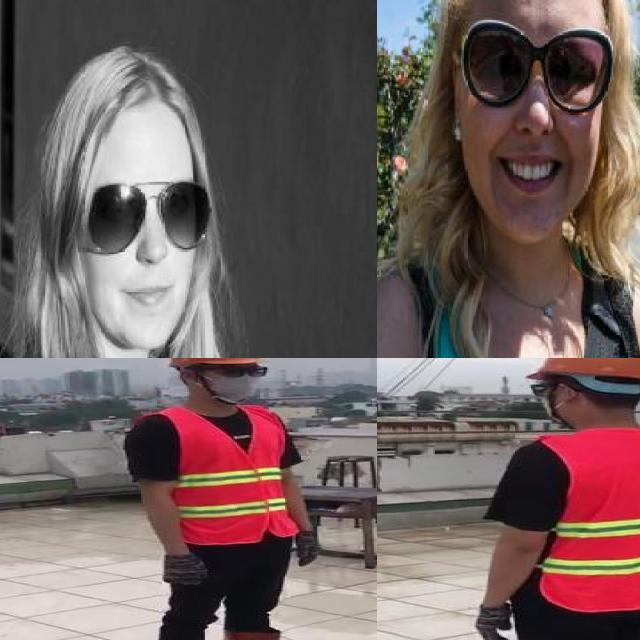face_mask: (202, 360, 268, 403)
face_nomask: (466, 27, 599, 206), (83, 176, 205, 324)
glasses: (460, 10, 619, 119), (68, 168, 208, 260), (206, 359, 275, 380)
hand_glove: (150, 552, 212, 588), (288, 529, 328, 569), (472, 604, 514, 640)
head_helmet: (523, 358, 640, 383), (162, 358, 263, 367)
head_nohelmet: (50, 52, 209, 152)
person: (377, 0, 640, 358), (123, 358, 324, 640), (463, 358, 640, 640)
vest: (134, 406, 299, 546), (522, 428, 640, 614)
